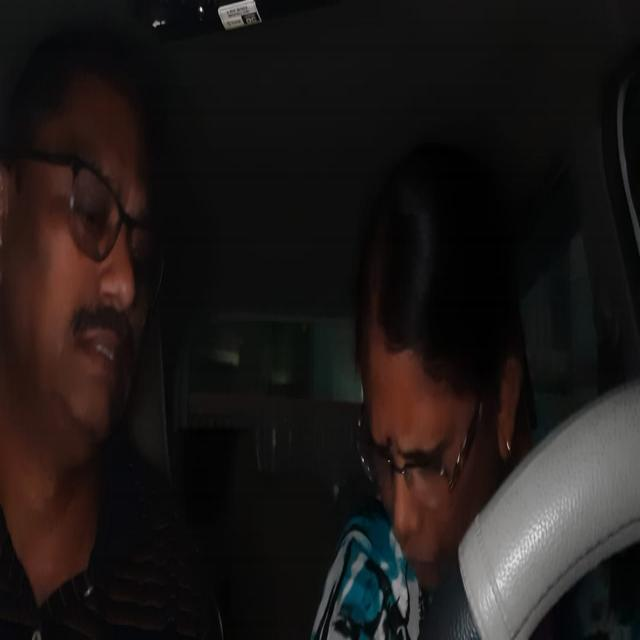drowsy: (354, 212, 507, 560)
person: (26, 65, 157, 432)
